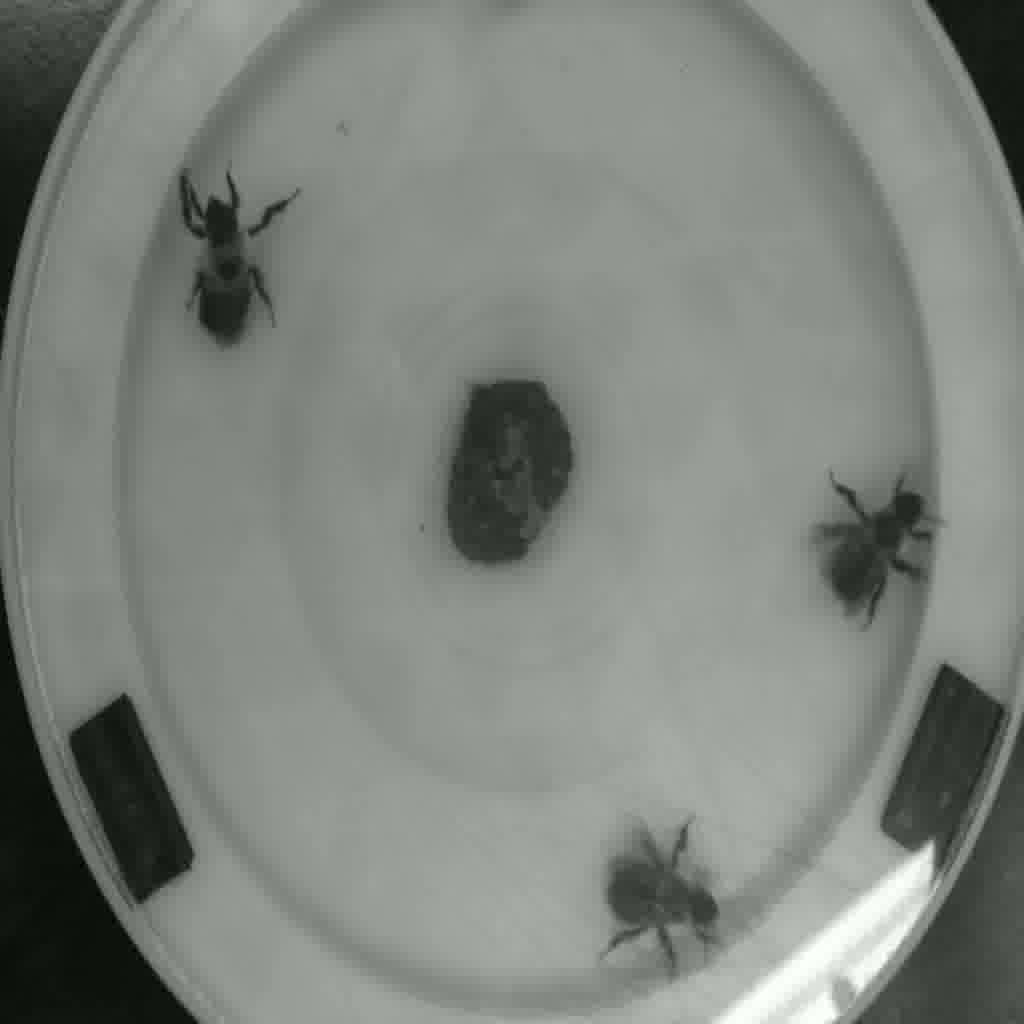bee: (787, 437, 959, 607), (570, 822, 742, 970), (165, 174, 294, 353)
